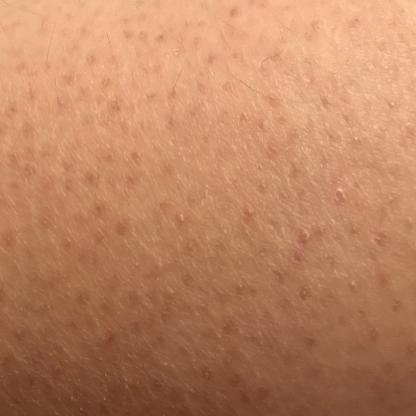Chicken Skin: (4, 7, 413, 412)
